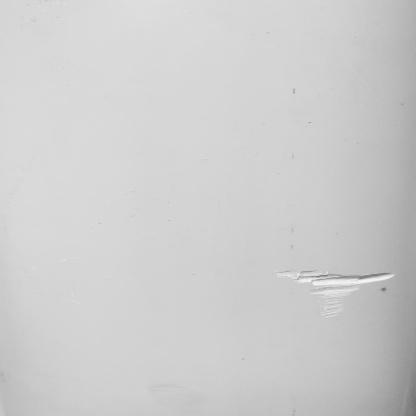sunshang: (281, 261, 400, 311)
